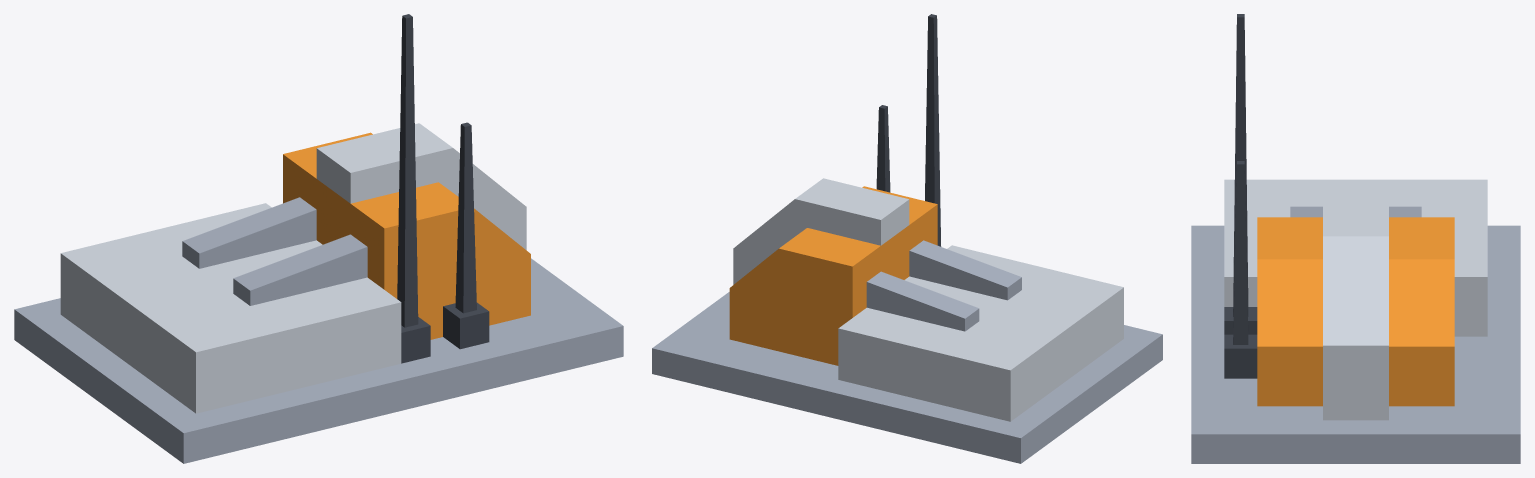
File: machine_wireless.glb
3 views of the same model, side by side, from view 1: azimuth 30°, elevation 25°; view 2: azimuth 150°, elevation 25°; view 3: azimuth 270°, elevation 25° (orthographic). The views are drawn at different scales.
Parts seen in each view (by area): view 1: machine_wireless; view 2: machine_wireless; view 3: machine_wireless.
Boxes of the visible parts, x1,y1,x2,y2 form: machine_wireless: [14, 14, 623, 463]; machine_wireless: [652, 14, 1162, 463]; machine_wireless: [1191, 14, 1520, 463].
Size of the model in its own units: 0.75 by 0.6 by 0.5.
